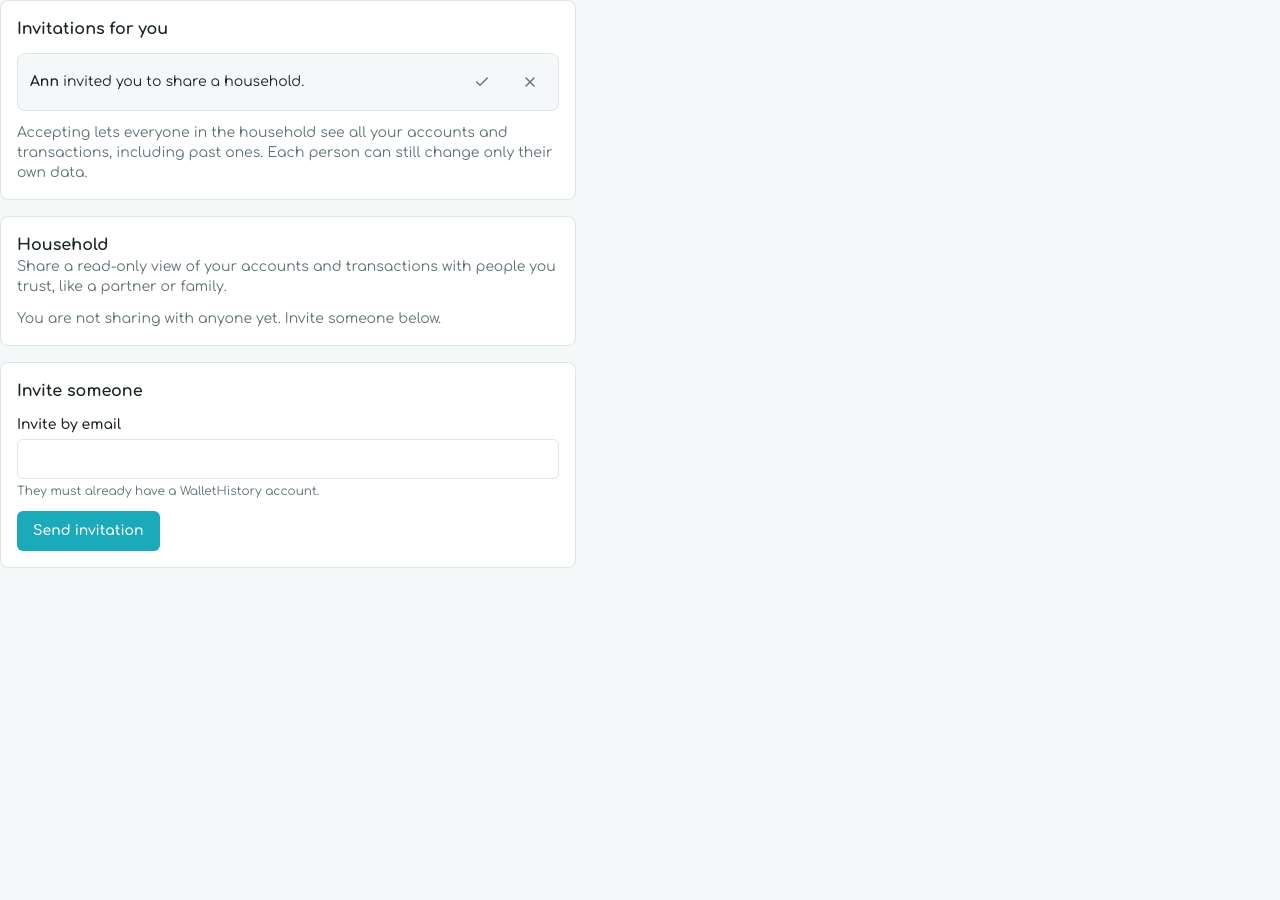
it: HouseholdManager › shows an action error
Click the button named "Accept invitation from Ann" at [482, 82], box [462,62,502,102]
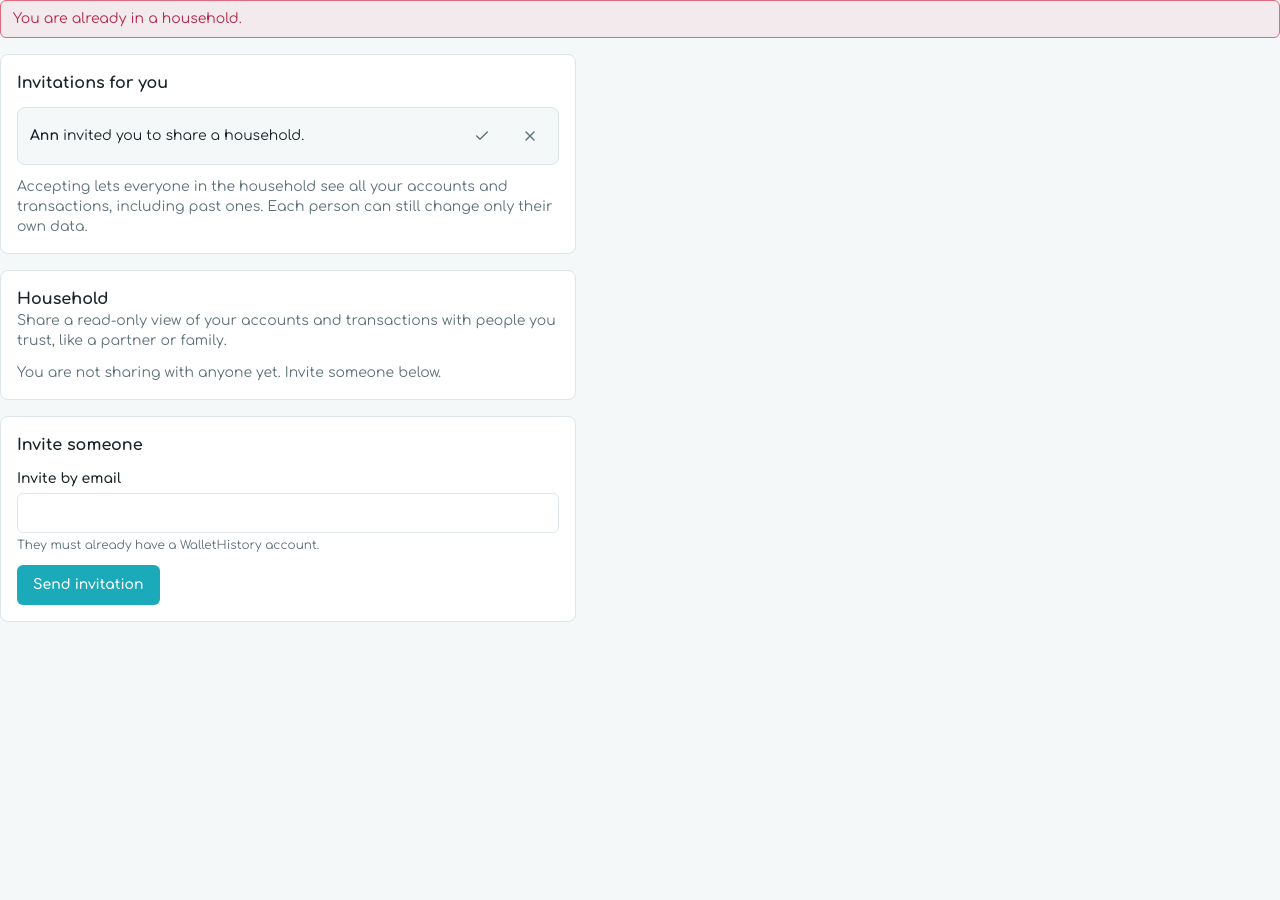
Check: the message reads "You are already in a household.", box [13,11,242,26]
